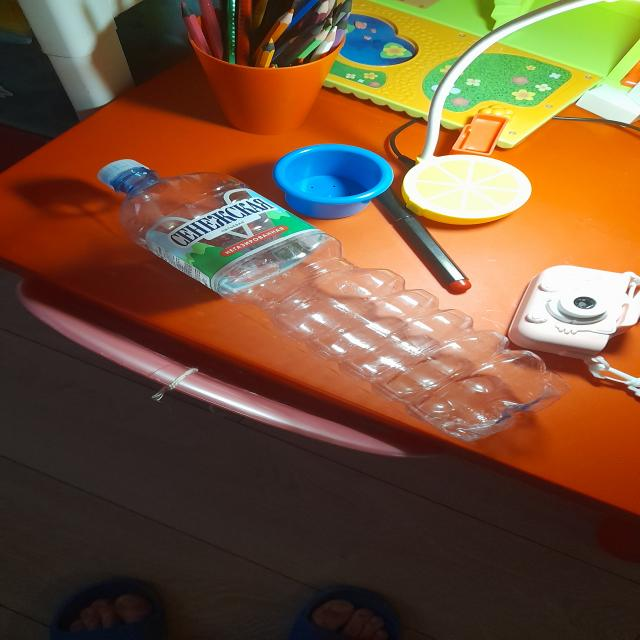empty: (99, 162, 564, 441)
